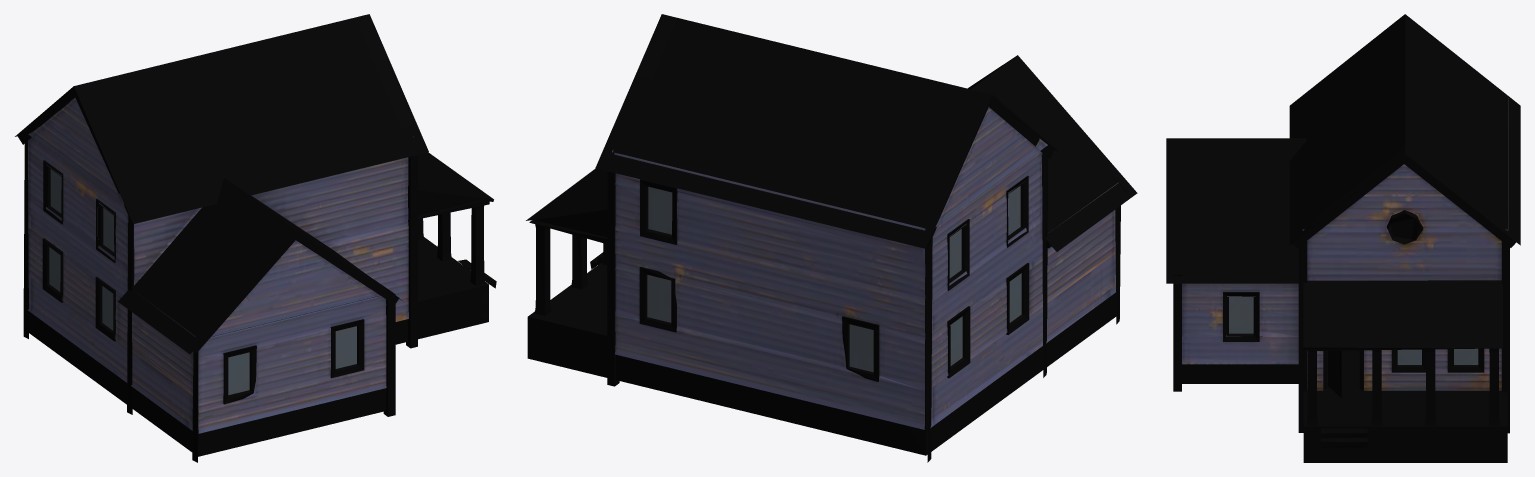
File: blue_gable_house_lod1.glb
3 renders of one model, left to right at view 1: azimuth 30°, elevation 25°; view 2: azimuth 150°, elevation 25°; view 3: azimuth 270°, elevation 25°, orthographic. The views are drawn at different scales.
Parts seen in each view (by area): view 1: blue_gable_house; view 2: blue_gable_house; view 3: blue_gable_house.
Part boxes in pixels (x1,y1,x2,y2): blue_gable_house: [15, 14, 496, 462]; blue_gable_house: [526, 14, 1137, 462]; blue_gable_house: [1166, 14, 1520, 462].
Size of the model in its own units: 9.8 by 7.06 by 8.03.
Materials: 1 (1 with a texture image).
